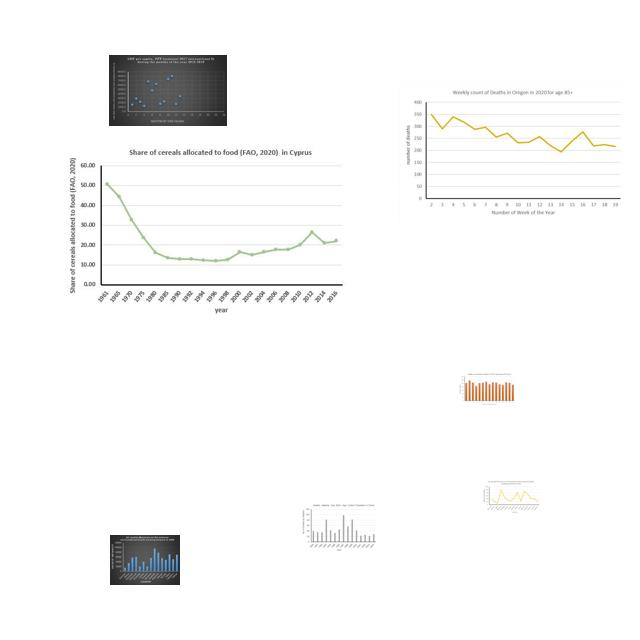Graph: (62, 143, 348, 320), (399, 85, 626, 221), (109, 55, 227, 126), (301, 503, 377, 553), (110, 535, 180, 585), (458, 372, 516, 407), (482, 480, 540, 514)
